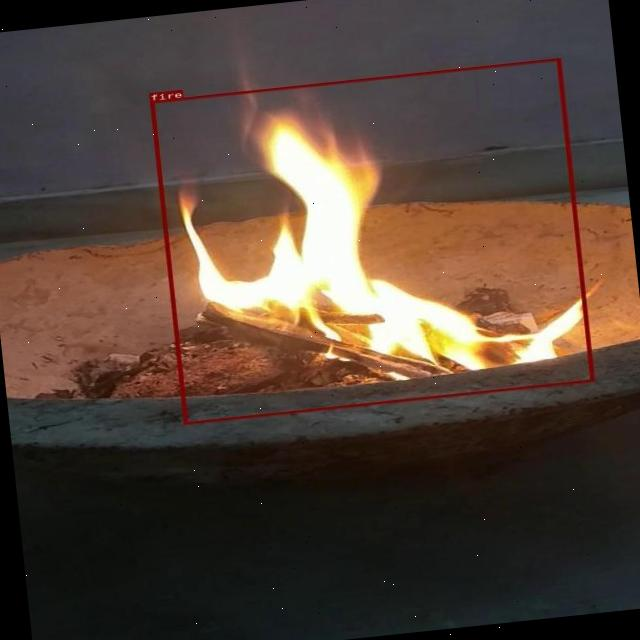fire: (149, 58, 593, 424)
